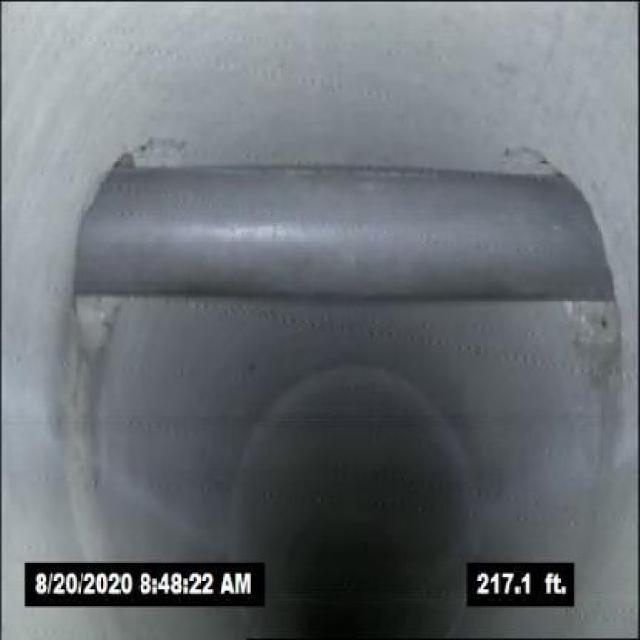Utility intrusion: (42, 152, 626, 314)
